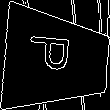P_E: (31, 39, 82, 81)
